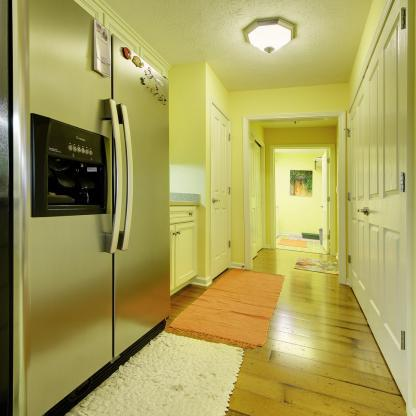door: (364, 0, 410, 398), (210, 100, 232, 282), (349, 115, 368, 293), (321, 149, 330, 254)
hinged: (400, 4, 406, 30), (400, 170, 405, 192), (401, 328, 406, 350), (346, 127, 351, 137), (348, 254, 352, 264), (347, 192, 351, 200), (228, 132, 231, 141), (228, 186, 231, 194), (228, 240, 231, 248), (326, 234, 330, 239), (327, 158, 330, 164), (327, 197, 330, 202)
knob: (359, 206, 368, 216)
lever: (212, 198, 220, 202), (320, 206, 324, 209)
